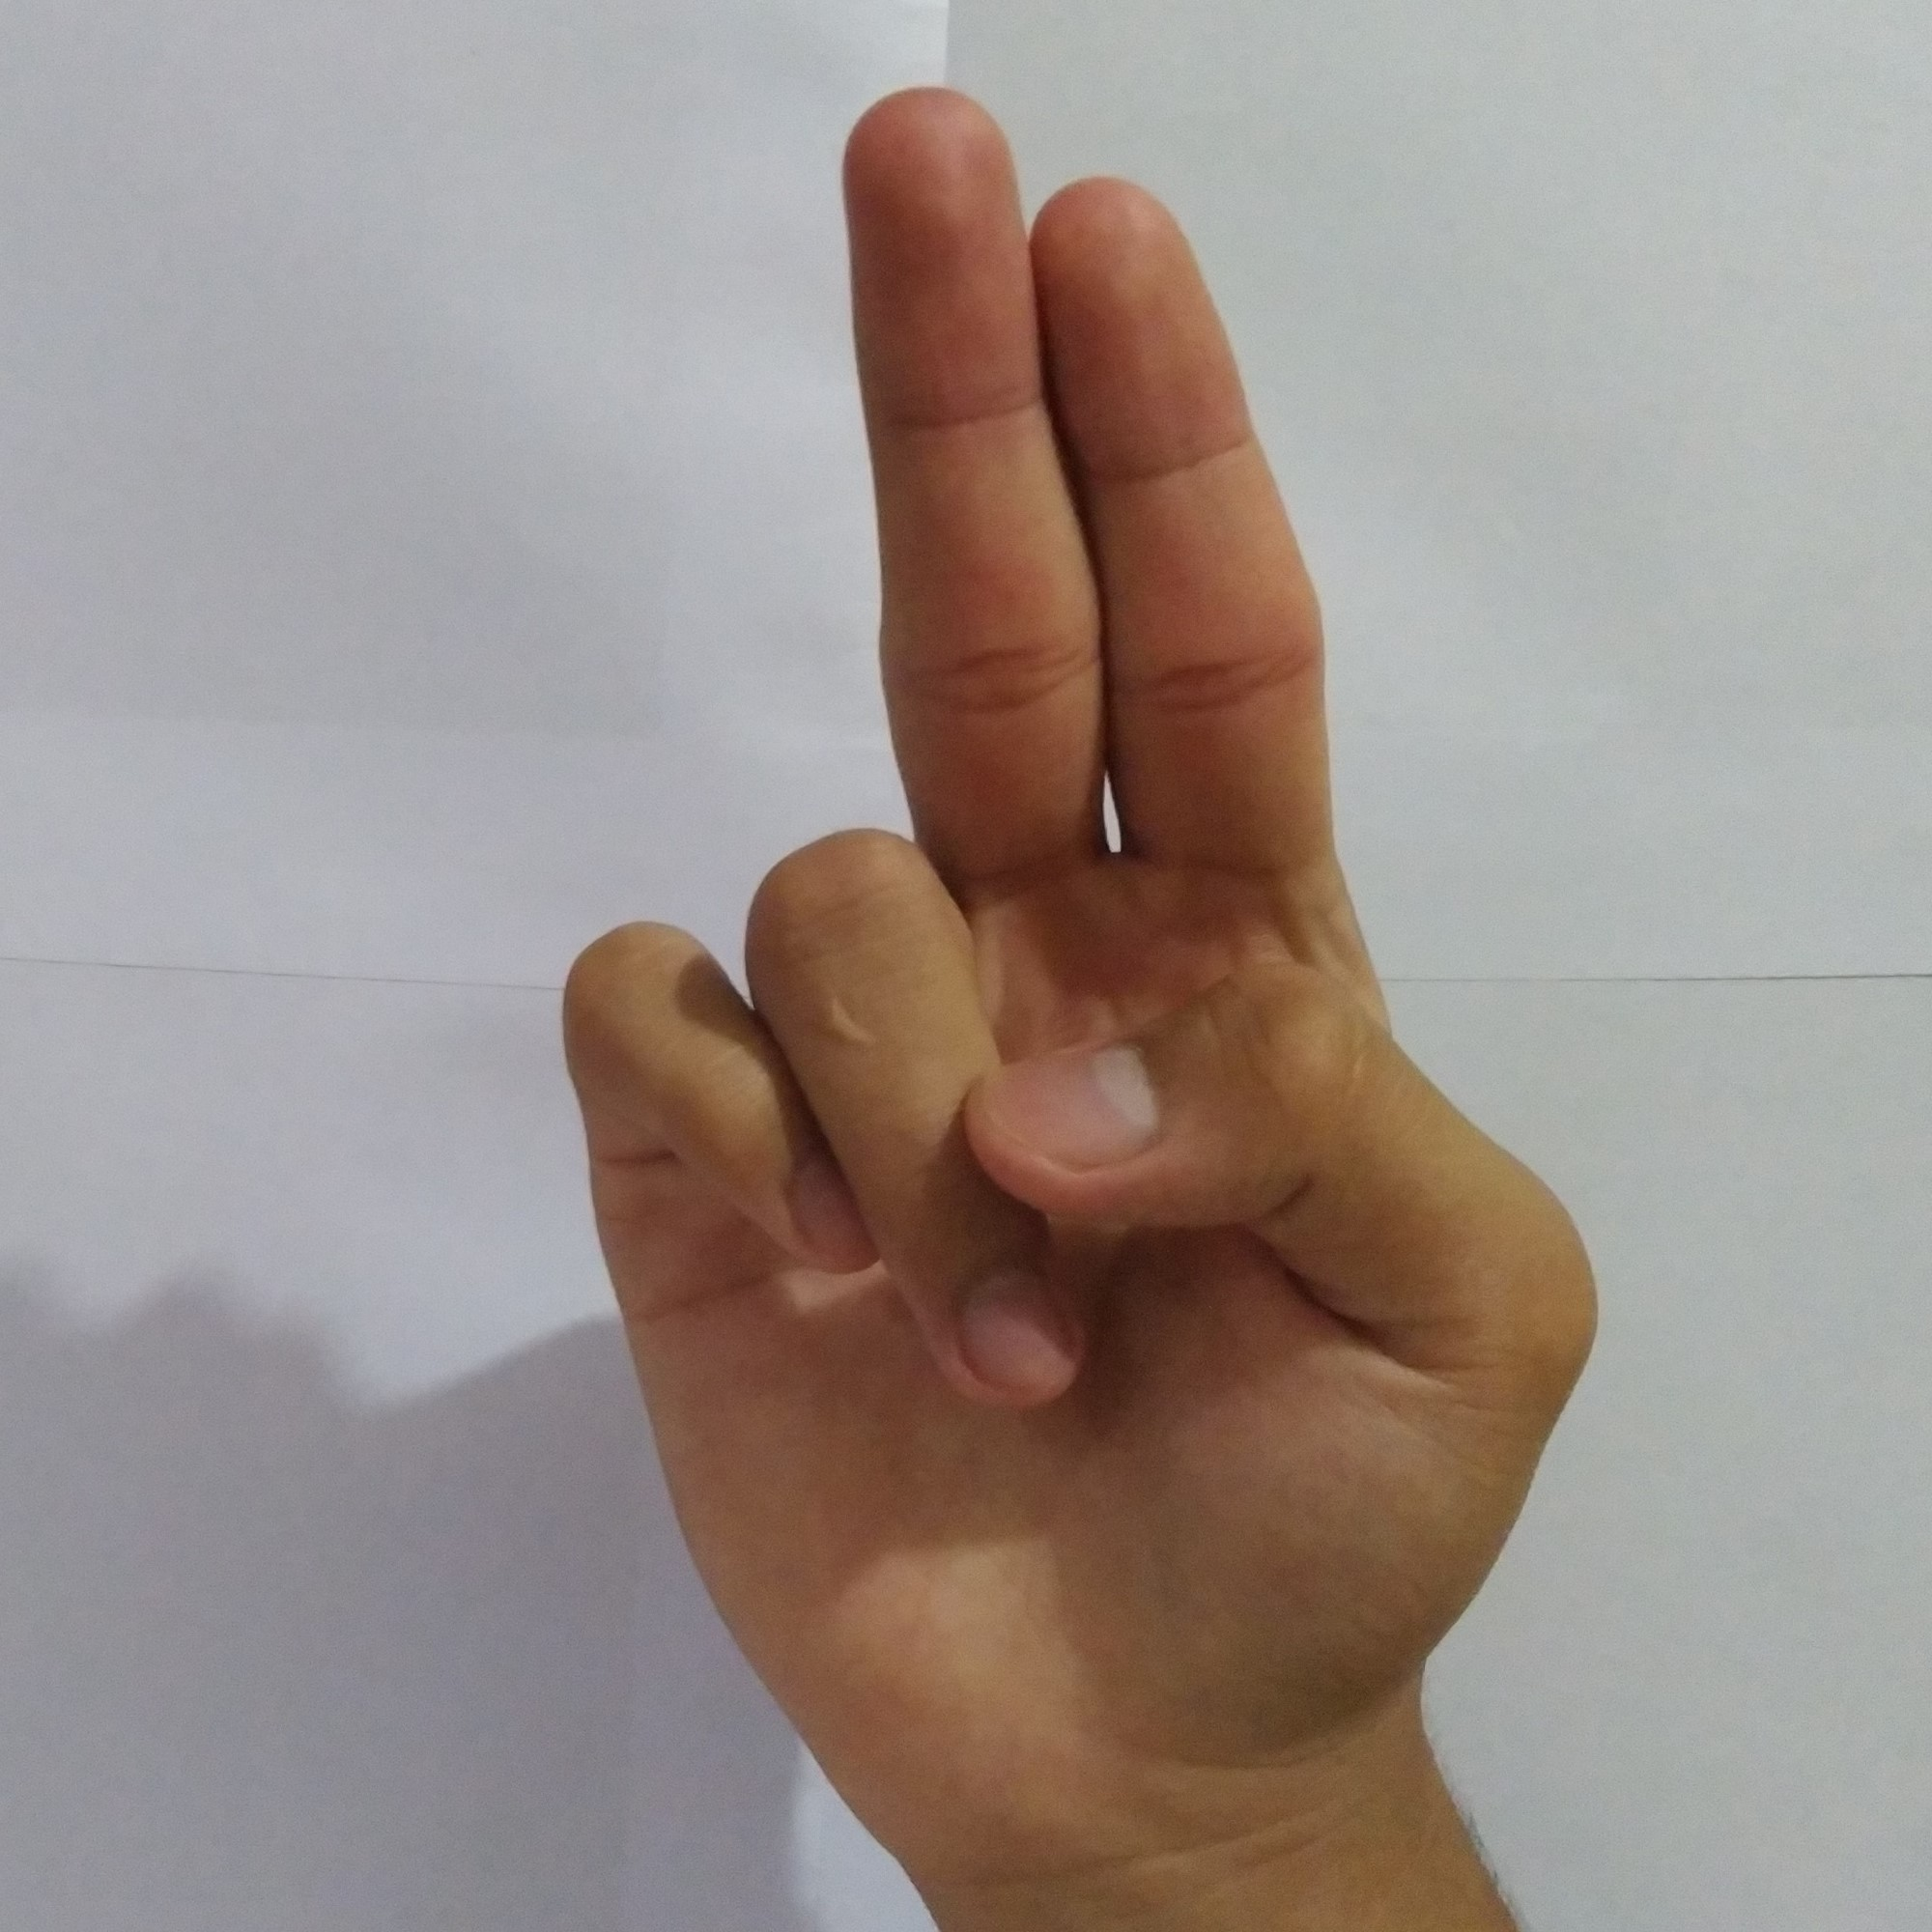U: (531, 62, 1622, 1854)
